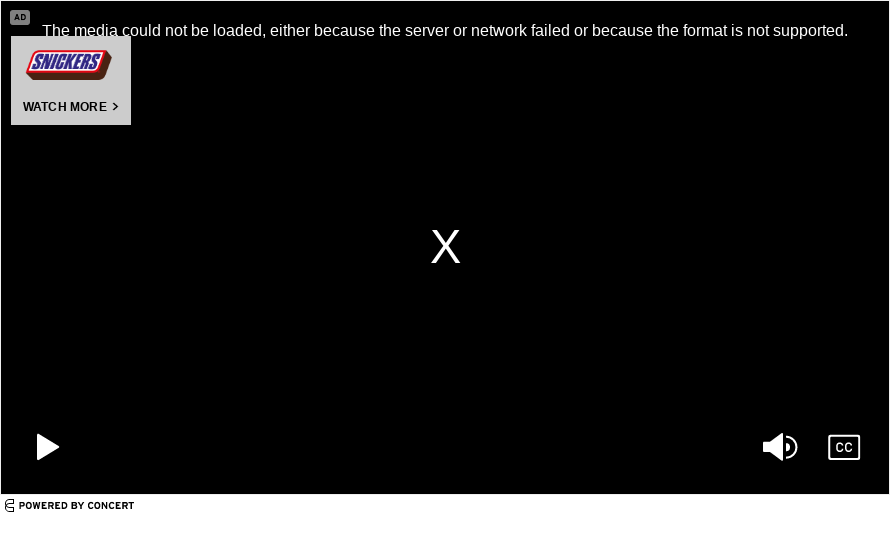fake_button: (5, 32, 145, 132), (732, 393, 875, 488)
